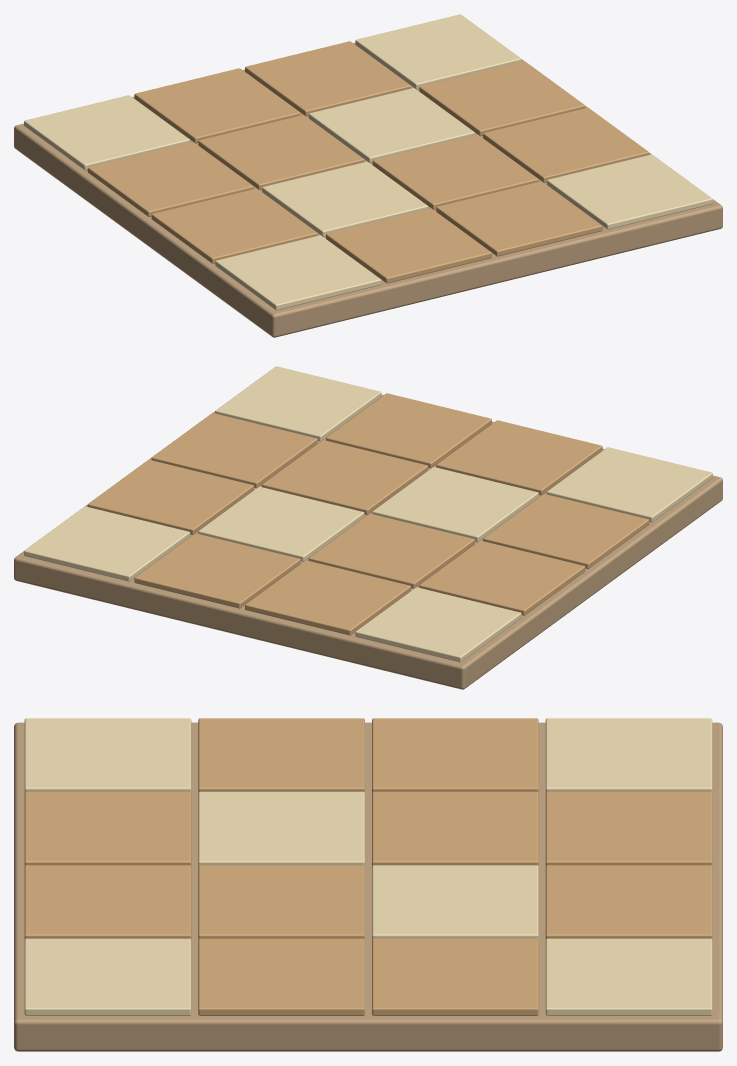
Rendered from desert-caravanserai-and-bazaar-courtyard-paving-eb3954a0__30449.glb.
3 renders of one model, top to bottom at view 1: azimuth 30°, elevation 25°; view 2: azimuth 150°, elevation 25°; view 3: azimuth 270°, elevation 25°, orthographic. The views are drawn at different scales.
Visible parts, largest first — view 1: courtyard-paving; view 2: courtyard-paving; view 3: courtyard-paving.
Part boxes in pixels (x1,y1,x2,y2): courtyard-paving: [14, 14, 722, 337]; courtyard-paving: [14, 366, 722, 689]; courtyard-paving: [14, 718, 722, 1051].
Size of the model in its own units: 2 by 0.1251 by 2.
